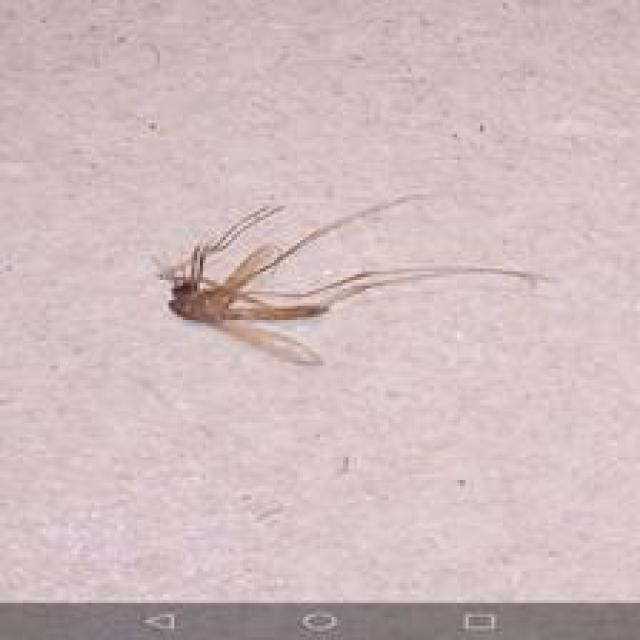Culex: (153, 192, 550, 368)
